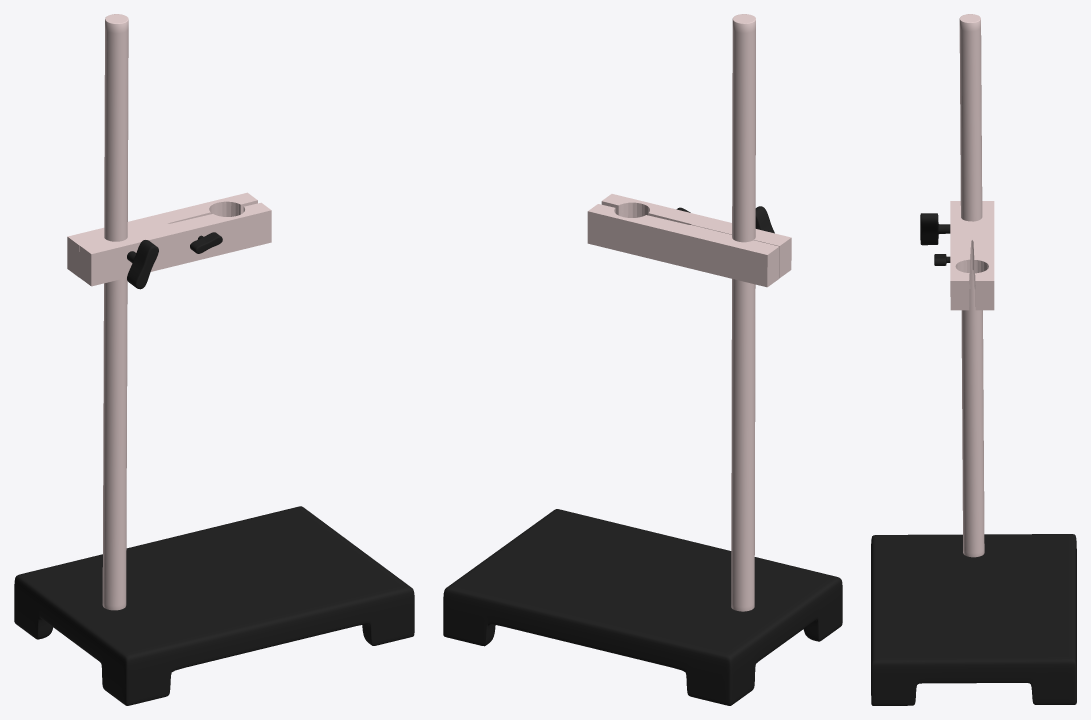
Rendered from Burette stand.fbx.
The picture shows the model from 3 angles, left to right: view 1: azimuth 30°, elevation 25°; view 2: azimuth 150°, elevation 25°; view 3: azimuth 270°, elevation 25°; orthographic projection. The views are drawn at different scales.
Parts seen in each view (by area): view 1: polySurface2, polySurface1, pCube4, pCube4.001, polySurface5; view 2: polySurface2, polySurface1, pCube4.001, pCube4; view 3: polySurface2, polySurface1, pCube4.001, pCube4, polySurface5.
Part boxes in pixels (x1,y1,x2,y2): polySurface2: (14,506,414,705); polySurface1: (102,14,128,610); pCube4: (79,202,271,286); pCube4.001: (67,192,257,277); polySurface5: (127,240,158,289); polySurface2: (443,509,842,705); polySurface1: (731,14,755,611); pCube4.001: (587,204,779,287); pCube4: (601,194,791,278); polySurface2: (871,534,1076,705); polySurface1: (959,14,984,557); pCube4.001: (972,201,994,310); pCube4: (950,201,972,310); polySurface5: (920,213,950,245).
Bounding box in the file's own units: 2491 × 5249 × 1690.
